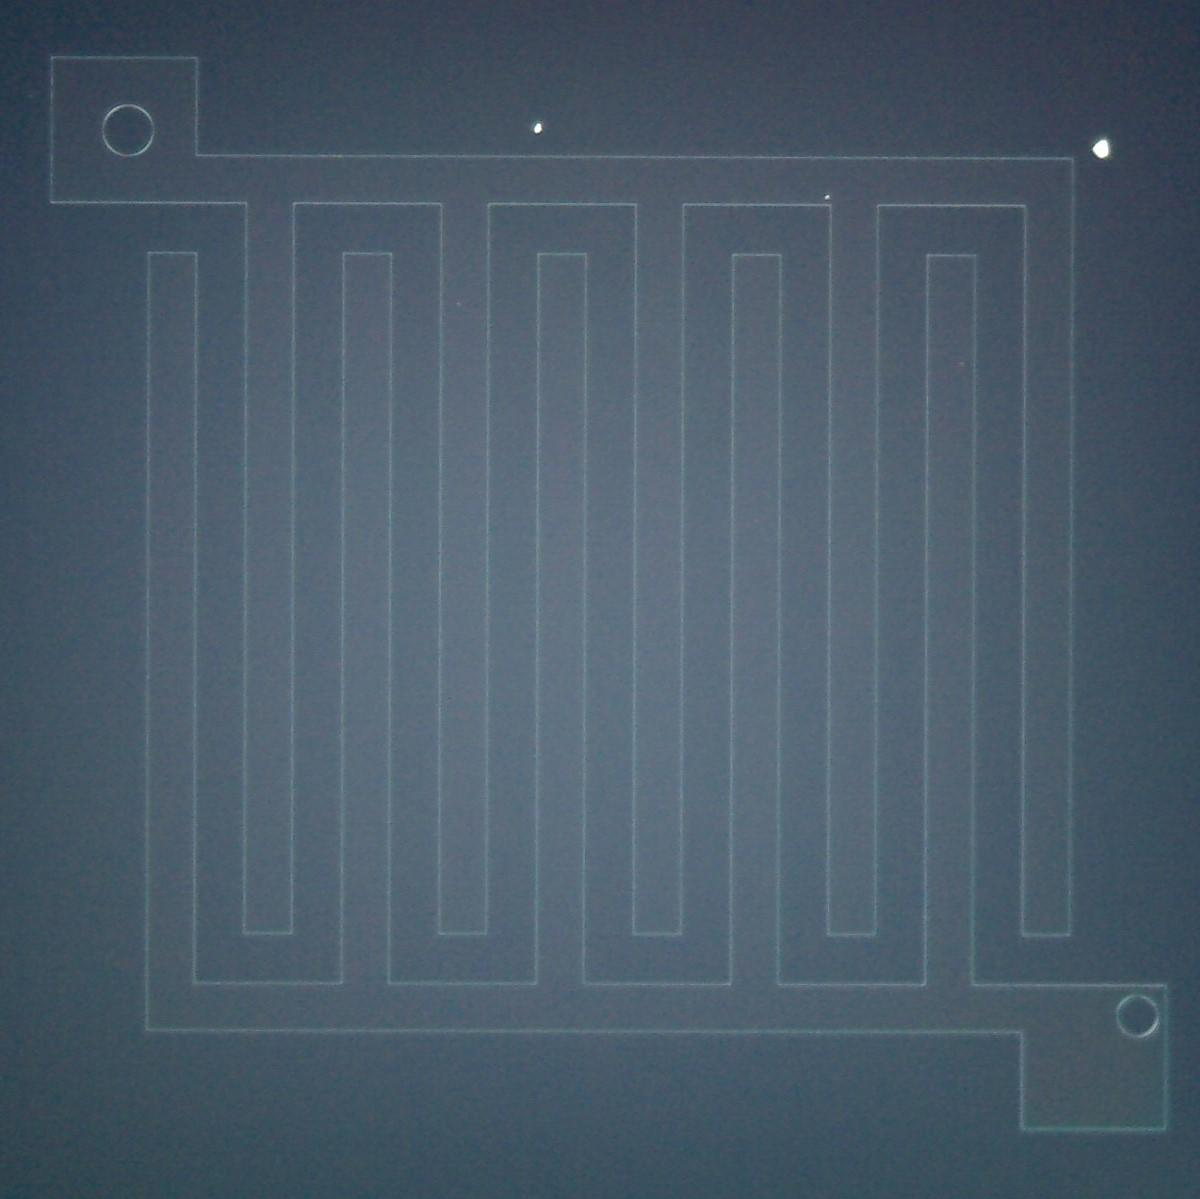B_point: (1089, 138, 1112, 161), (531, 122, 546, 136)
circle: (100, 102, 156, 158), (1114, 993, 1160, 1041)
s_point: (821, 191, 832, 203), (956, 358, 967, 370), (453, 299, 463, 309)
